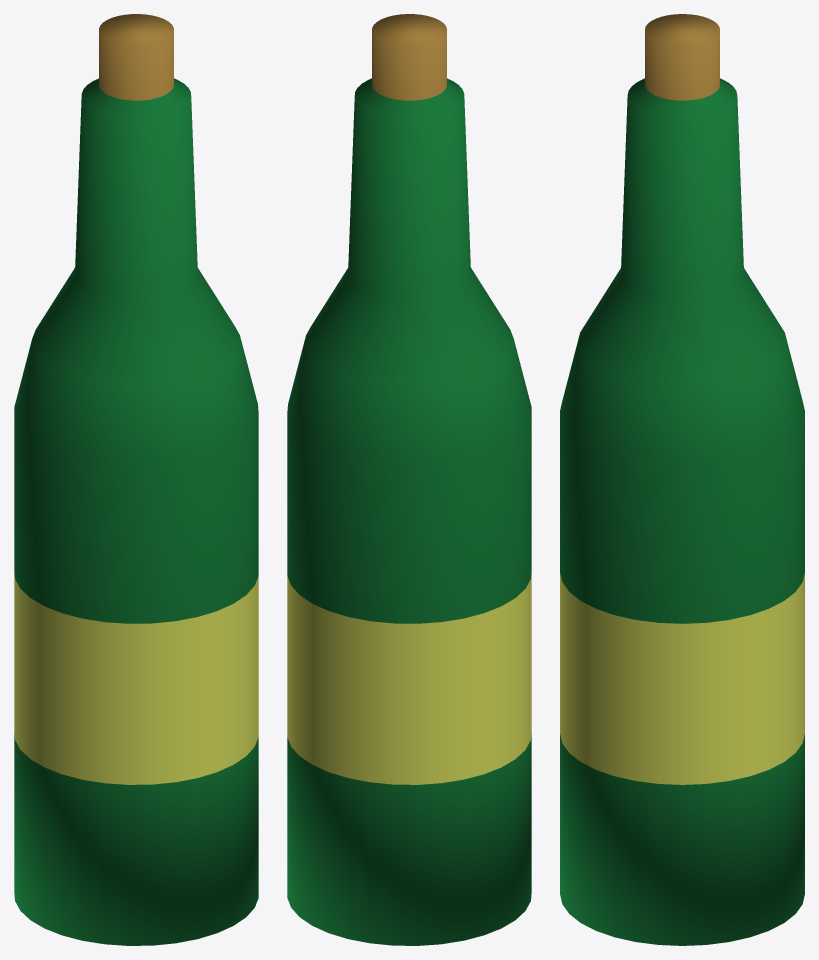
File: botella.fbx
3 renders of one model, left to right at view 1: azimuth 30°, elevation 25°; view 2: azimuth 150°, elevation 25°; view 3: azimuth 270°, elevation 25°, orthographic.
Visible parts, largest first — view 1: Cylinder; view 2: Cylinder; view 3: Cylinder.
Part boxes in pixels (x1,y1,x2,y2): Cylinder: (14, 14, 258, 945); Cylinder: (287, 14, 531, 945); Cylinder: (560, 14, 804, 945).
Size of the model in its own units: 200 by 779 by 200.
